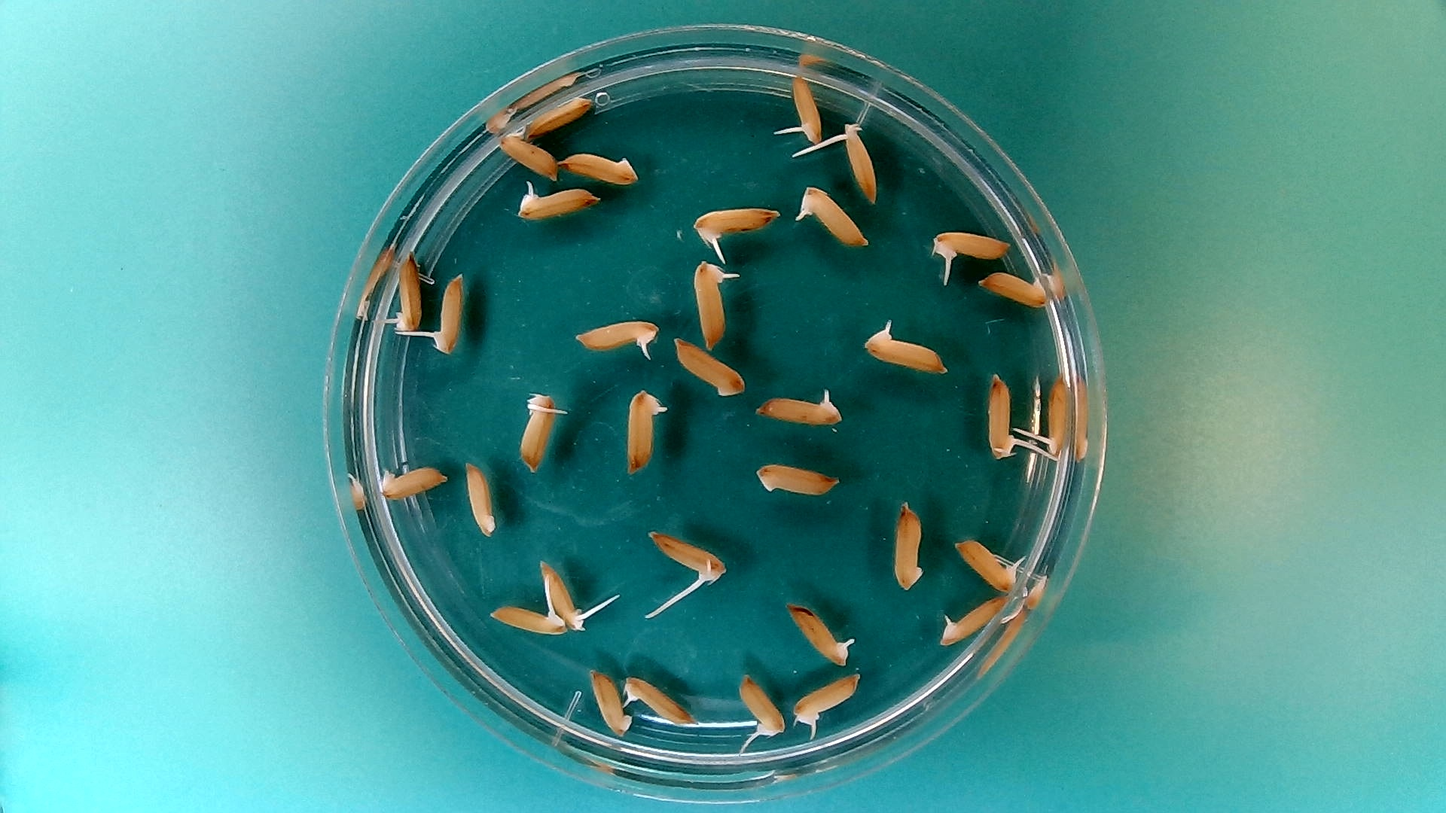no: (672, 338, 746, 397), (890, 496, 928, 595), (752, 459, 841, 498), (585, 665, 631, 738), (496, 129, 563, 179), (523, 95, 595, 141), (375, 458, 450, 501), (978, 266, 1051, 309), (461, 456, 499, 537), (558, 151, 642, 187)
yes: (620, 384, 672, 477), (795, 186, 870, 250), (649, 529, 729, 585), (569, 314, 663, 360), (787, 606, 857, 667), (937, 592, 1011, 648), (691, 262, 735, 354), (792, 669, 863, 726), (616, 675, 695, 726), (688, 205, 780, 248), (859, 330, 944, 376), (956, 537, 1023, 593), (515, 389, 558, 474), (426, 269, 467, 353), (516, 186, 605, 224), (386, 249, 423, 340), (753, 391, 843, 428), (840, 121, 879, 206), (538, 561, 584, 631), (741, 673, 788, 741), (934, 225, 1013, 263), (984, 370, 1017, 459), (786, 71, 824, 145), (1045, 373, 1075, 461), (488, 603, 567, 635)
